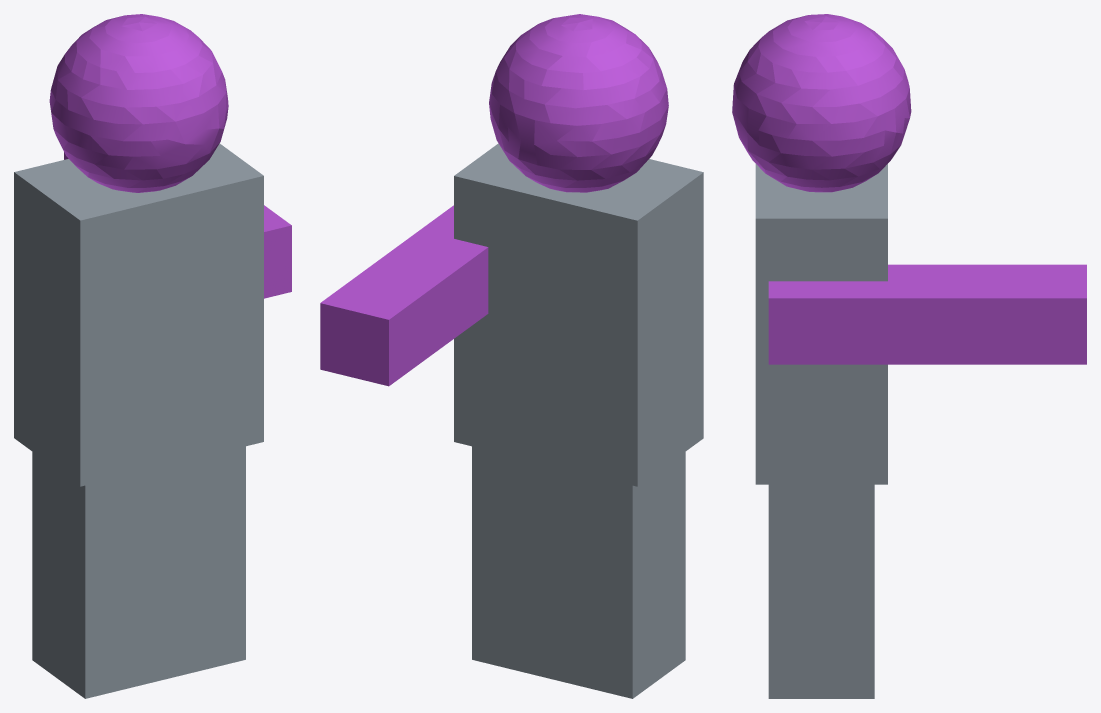
The model's file is CH_Hero_Voss_LOD1.glb.
3 renders of one model, left to right at view 1: azimuth 30°, elevation 25°; view 2: azimuth 150°, elevation 25°; view 3: azimuth 270°, elevation 25°, orthographic.
Parts seen in each view (by area): view 1: Head; view 2: Head; view 3: Head.
Boxes of the visible parts, left/top/right/bottom form: Head: left=14, top=14, right=291, bottom=698; Head: left=320, top=14, right=703, bottom=698; Head: left=732, top=14, right=1086, bottom=698.
Bounding box in the file's own units: 61.75 × 172 × 86.99.
